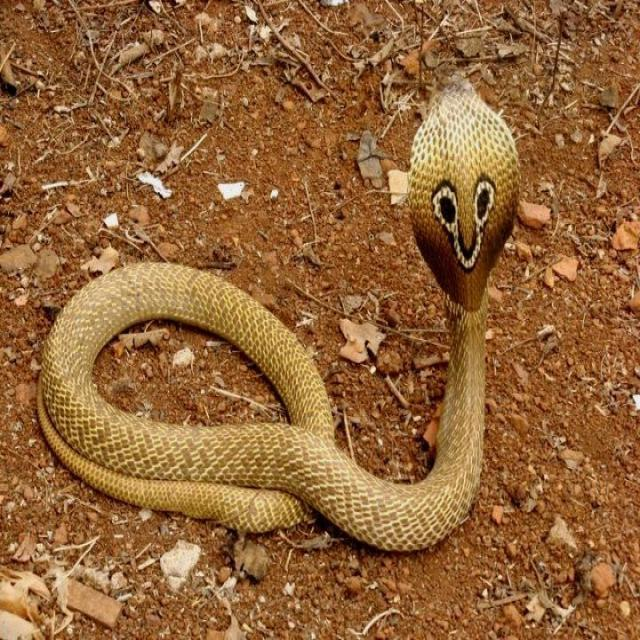Snake: (35, 74, 521, 552)
